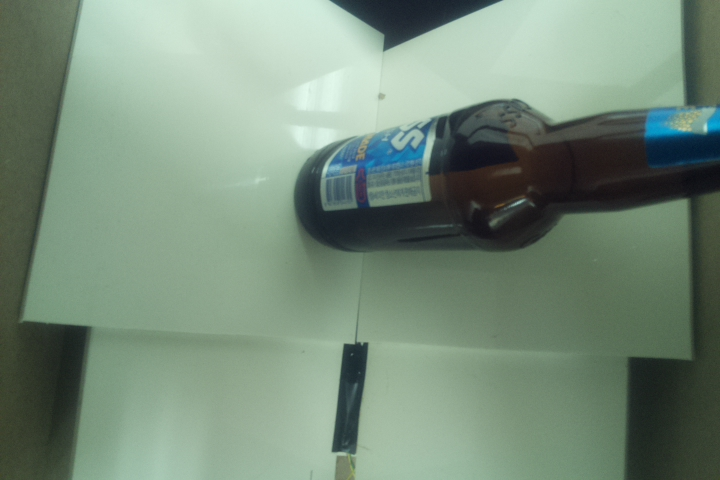makju: (291, 94, 720, 256)
